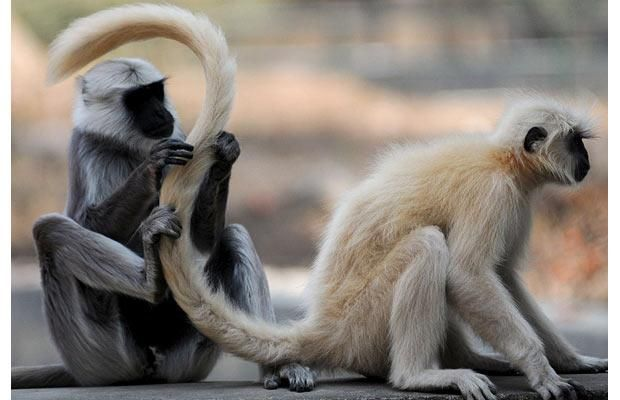langur: (169, 96, 603, 400), (29, 53, 319, 392)
